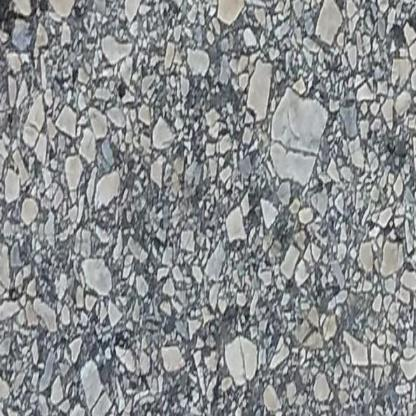Cracks: (0, 0, 17, 36)
